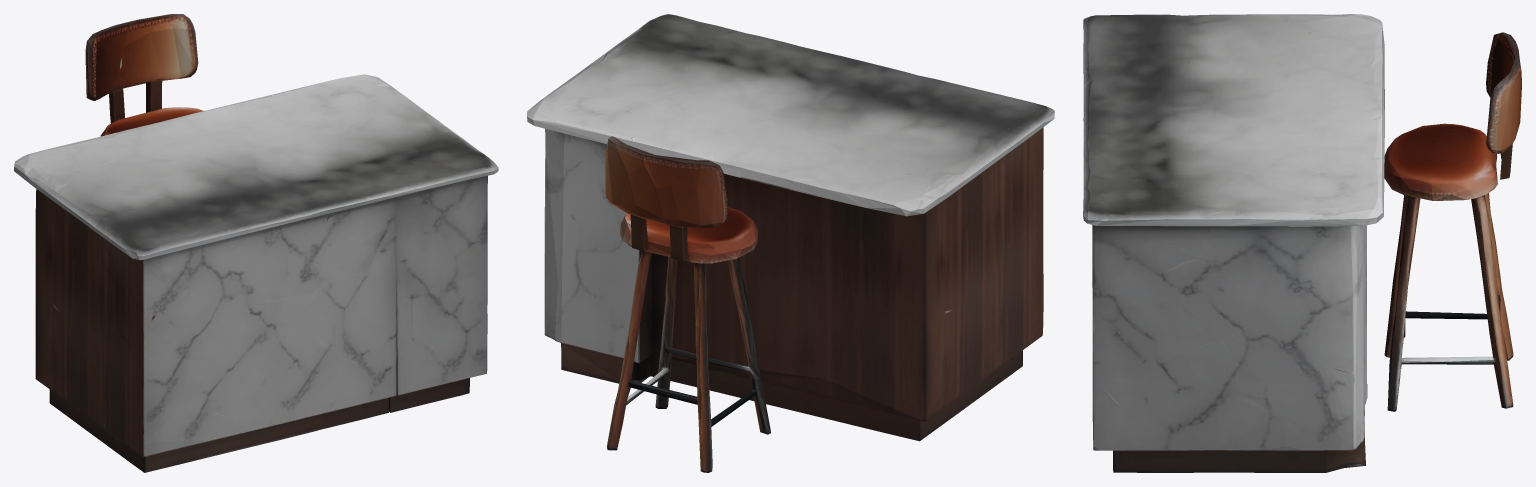
File: island.glb
3 renders of one model, left to right at view 1: azimuth 30°, elevation 25°; view 2: azimuth 150°, elevation 25°; view 3: azimuth 270°, elevation 25°, orthographic. The views are drawn at different scales.
Visible parts, largest first — view 1: world; view 2: world; view 3: world.
Part boxes in pixels (<box>): world: <box>14,14,498,472</box>; world: <box>527,14,1054,472</box>; world: <box>1083,14,1521,472</box>.
Size of the model in its own units: 1 by 0.7421 by 0.9045.
Materials: 1 (1 with a texture image).
